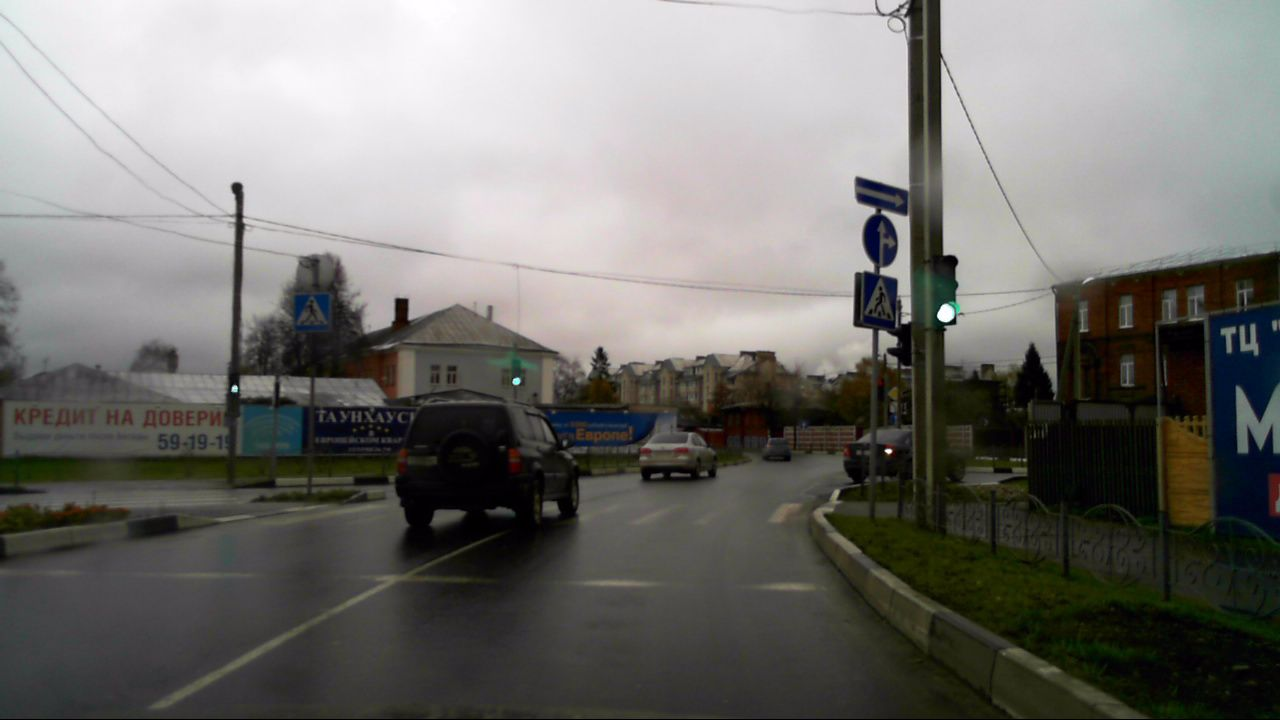One-Way Traffic: (855, 177, 909, 214)
Pedestrian Crossing: (863, 273, 898, 328)
